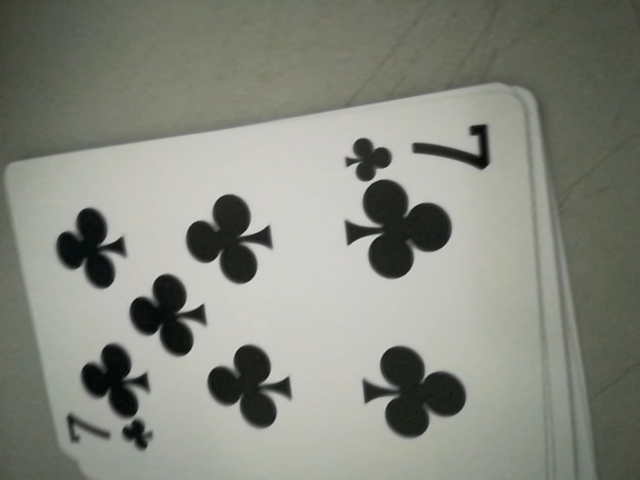mh 7: (339, 116, 503, 182), (60, 408, 152, 463)
